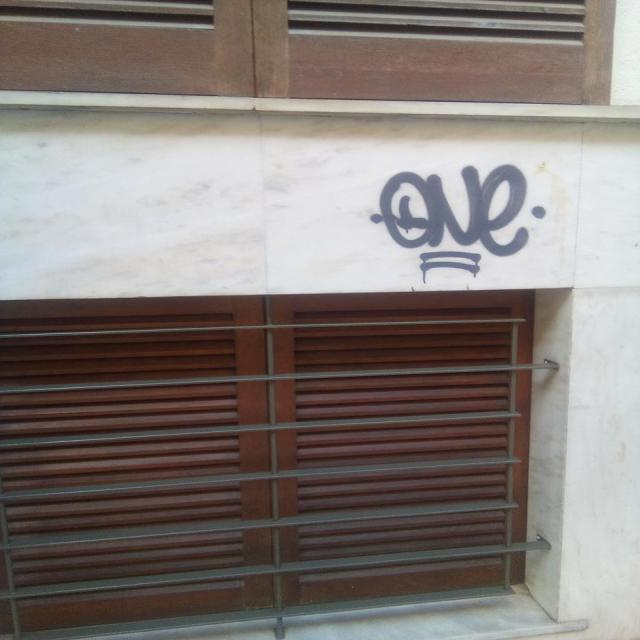nonspitting: (368, 164, 547, 274)
